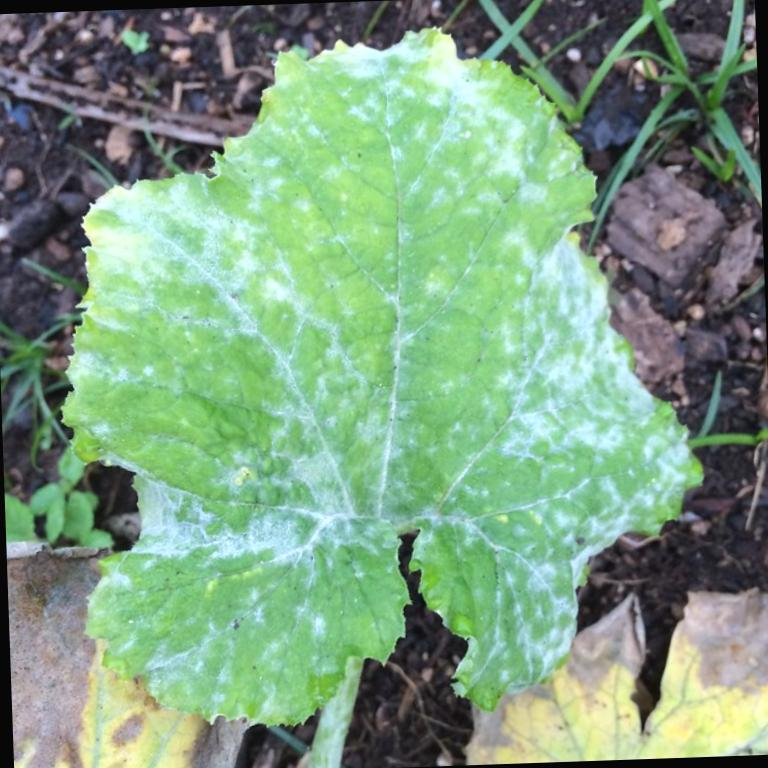powdery-mildew: (134, 201, 376, 514), (475, 295, 636, 548)
